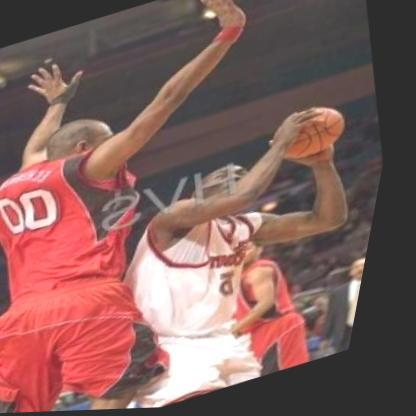basketball: (265, 98, 365, 175)
